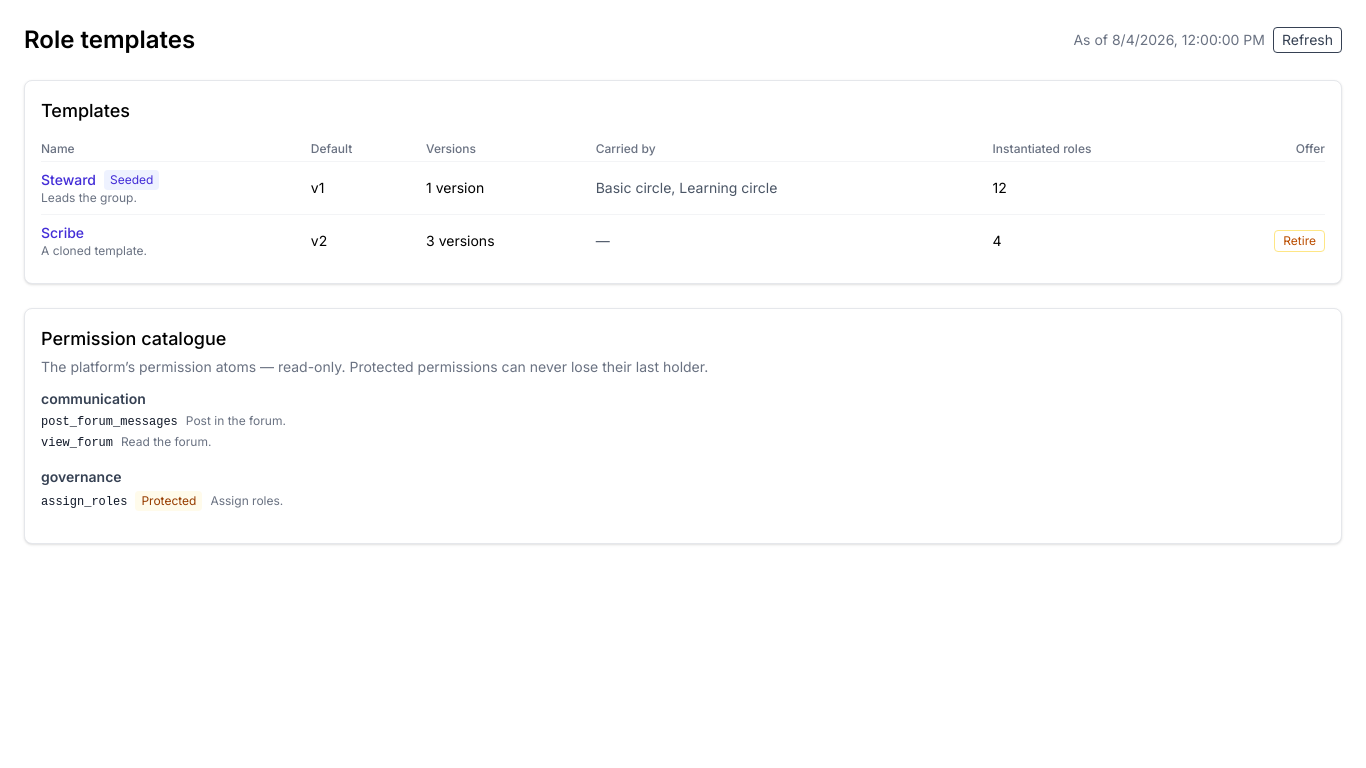
Scenario: AdminRolesView — retire / unretire (RD-A FEAT-H043 STORY-2) › states the consequence accurately before the click — and does not retire on open
Expected: the link "Steward" is shown, [41,170,96,190]
Click the button "Retire" at (1300, 241), box [1274,230,1325,252]
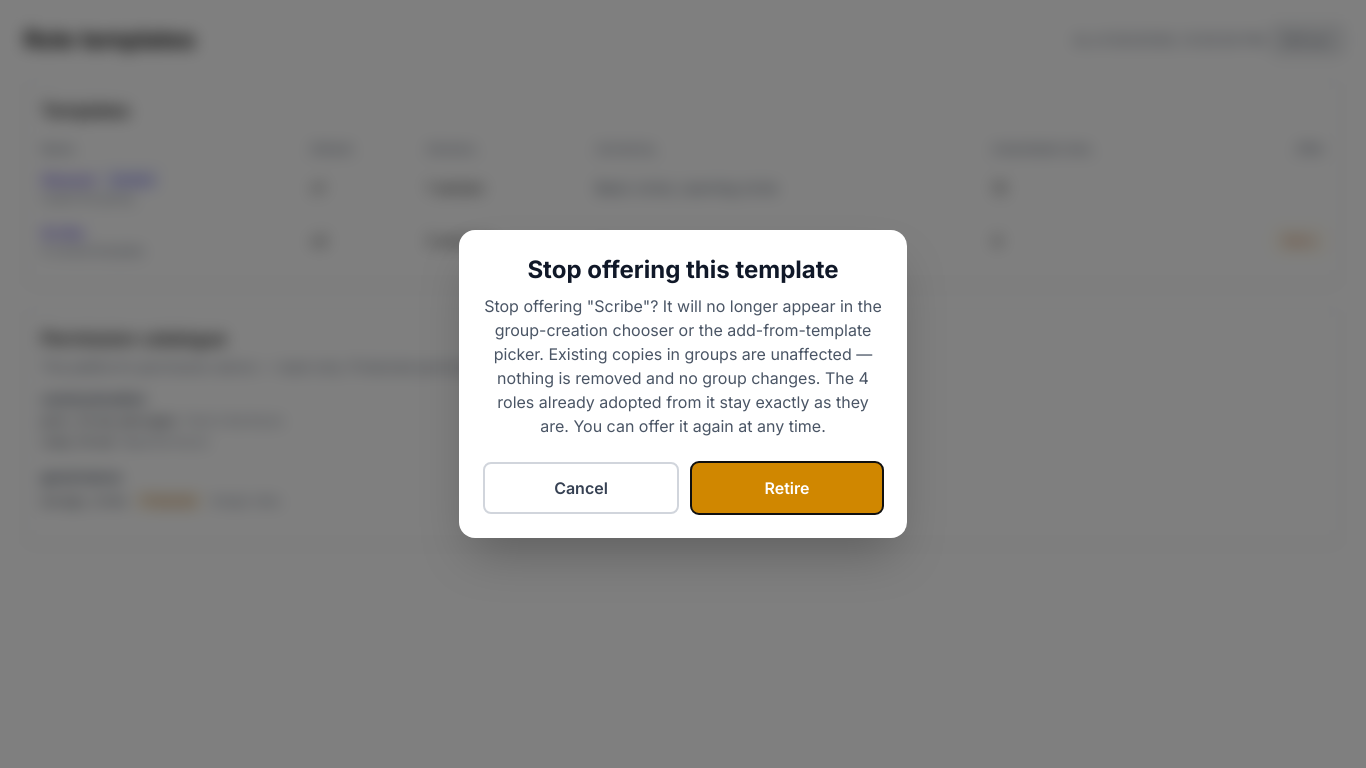
Now the dialog with test id "confirm-modal" shows "no longer appear in the group-creation chooser", box [484,296,882,436]
Now the dialog with test id "confirm-modal" shows "existing copies in groups are unaffected", box [484,296,882,436]
